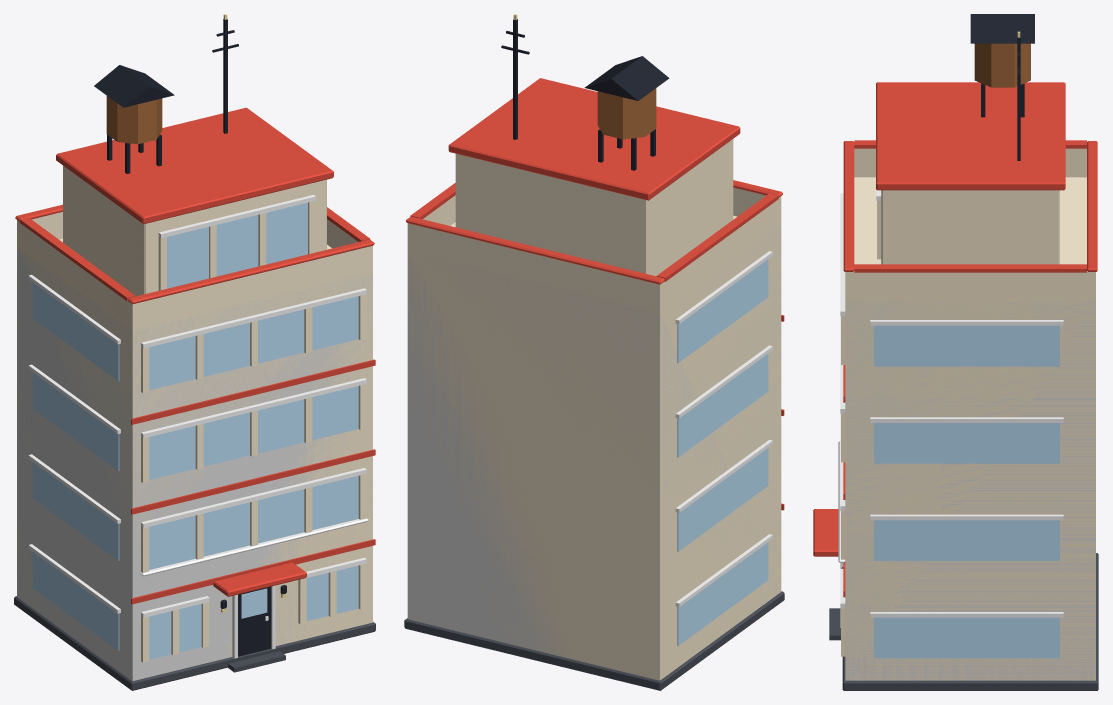
File: apartment-tall.glb
The picture shows the model from 3 angles, left to right: view 1: azimuth 30°, elevation 25°; view 2: azimuth 150°, elevation 25°; view 3: azimuth 270°, elevation 25°; orthographic projection. The views are drawn at different scales.
Parts seen in each view (by area): view 1: apartment-tall, COL_body; view 2: apartment-tall, COL_body; view 3: apartment-tall, COL_body.
Boxes of the visible parts, box(x1,y1,x2,y2) form: apartment-tall: box(14, 14, 375, 690); COL_body: box(17, 247, 372, 680); apartment-tall: box(404, 14, 784, 690); COL_body: box(407, 226, 781, 658); apartment-tall: box(813, 14, 1098, 690); COL_body: box(845, 301, 1095, 680).
Bounding box in the file's own units: 8.64 × 19.2 × 7.98.
